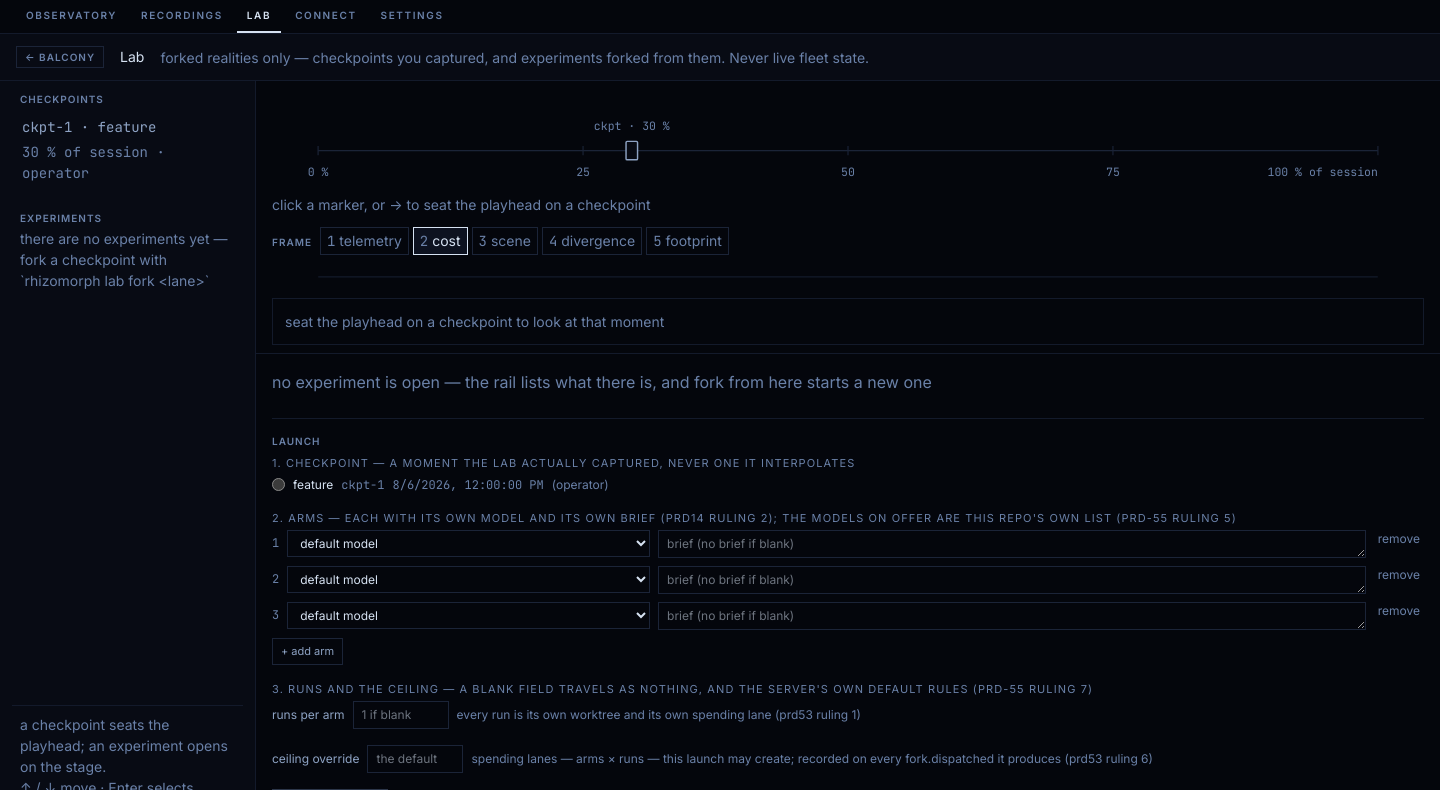
Test: LabPage — the lab re-reads its own record when it has changed it (prd-55 ruling 7) › a newly launched experiment reaches Compare and Metrics without a page reload
The image size is (1440, 790).
Expected: the text with test id "lab-experiments-empty" is shown, [12,228,243,291]
Expected: the text with test id "lab-stage-no-experiment" is shown, [272,372,932,392]
Click the radio button labelled "feature ckpt-1 8/6/2026, 12:00:00 PM (operator)" at coordinates (278, 485), box [272,478,285,491]
(page scrolled)
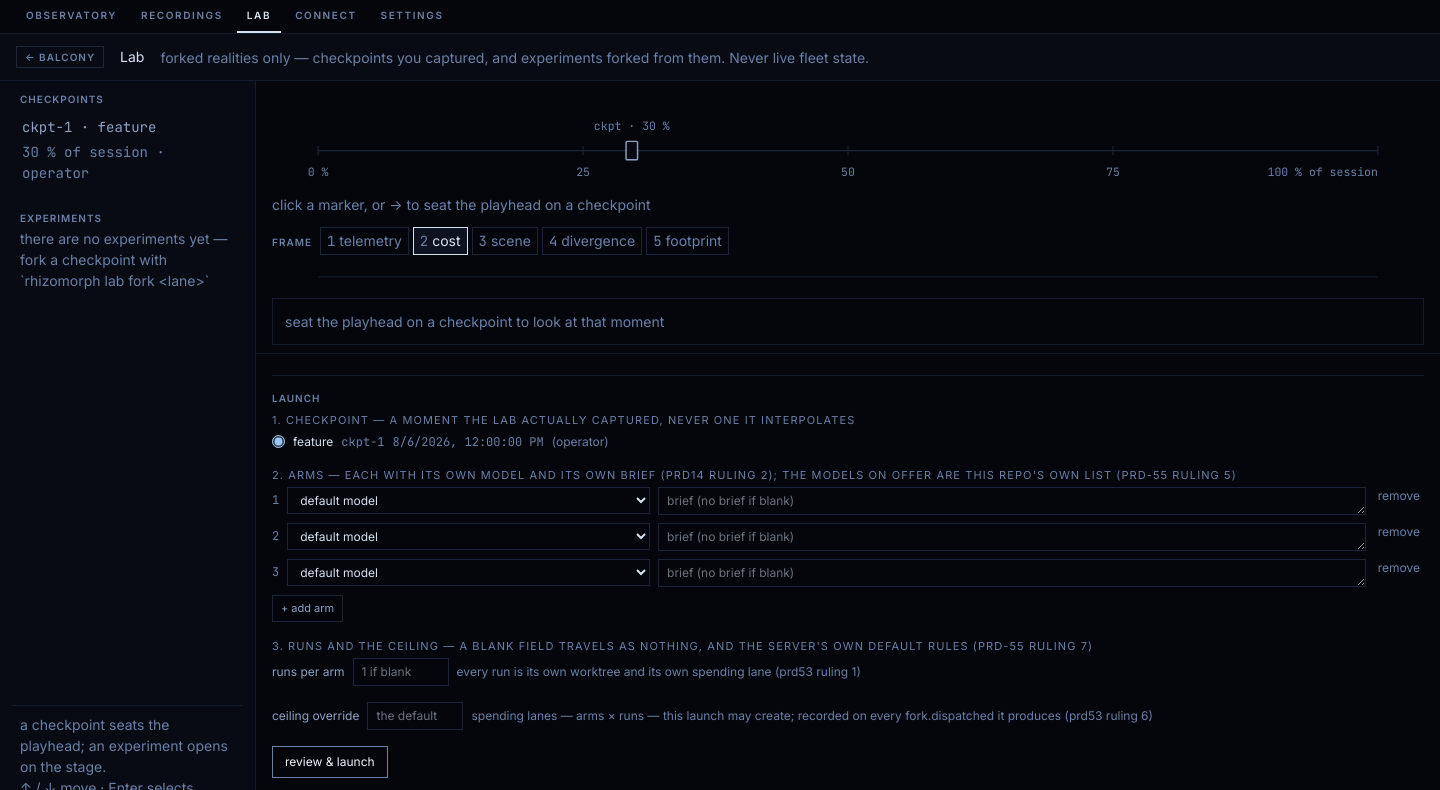
Click the button with test id "launch-review" at coordinates (330, 762), box [272,746,388,778]
(page scrolled)
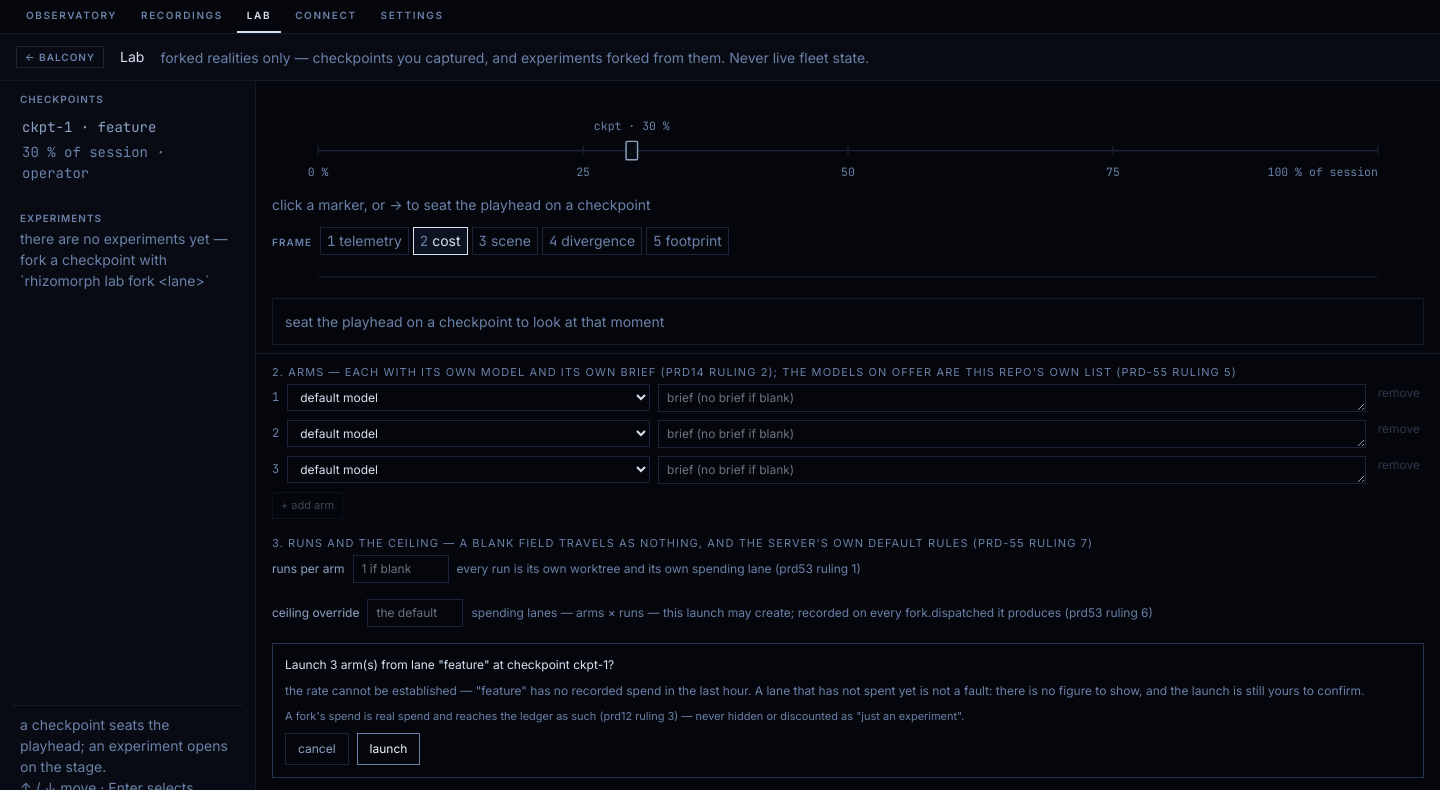
Result: the element with test id "launch-confirm-dialog" is shown at [272,643,1424,778]
Click the button with test id "launch-confirm" at coordinates (388, 749), box [357,733,420,765]
(page scrolled)
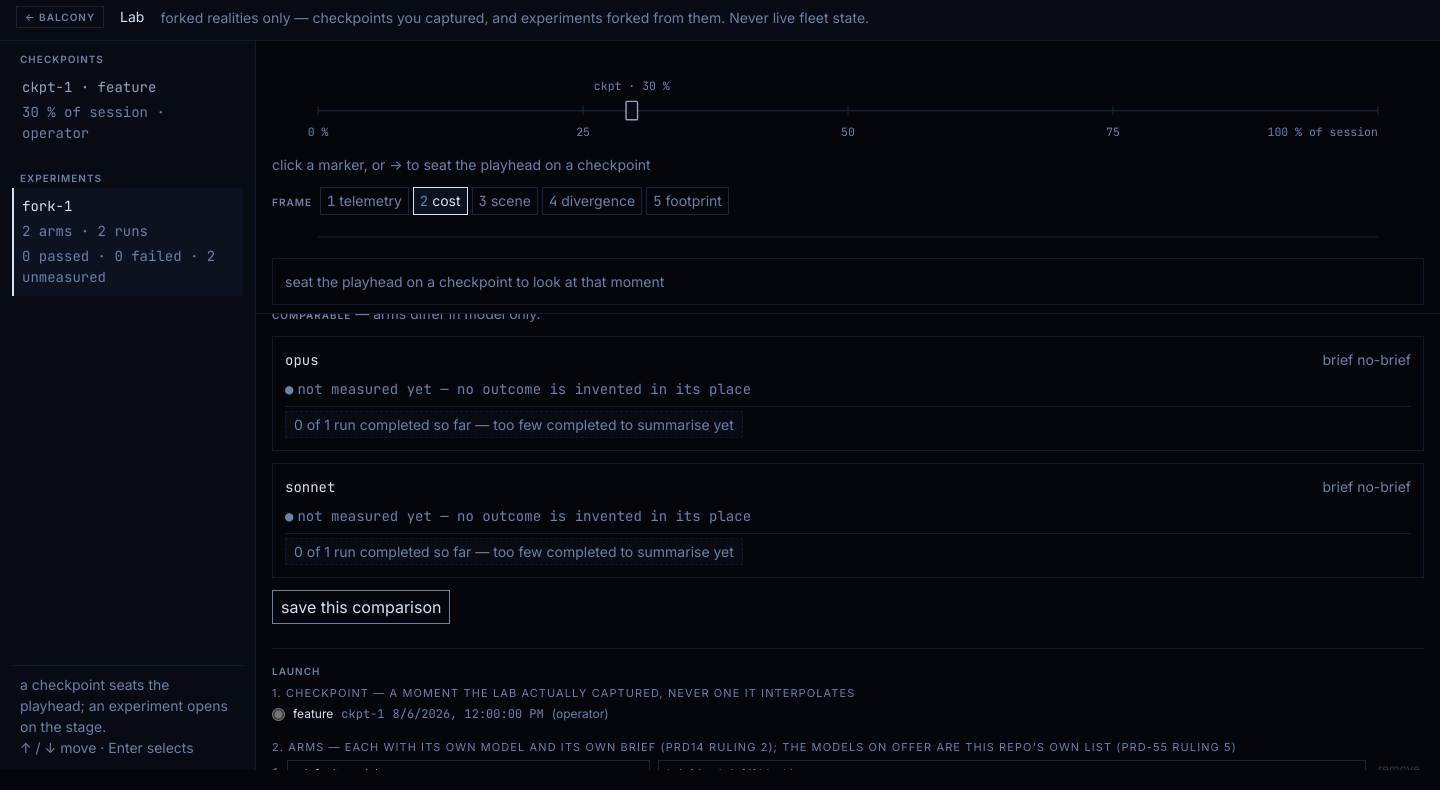
Result: the element with test id "lab-experiment-fork-1" is shown at [272,41,1424,624]
Result: the element with test id "comparison-surface" is shown at [272,232,1424,578]
Result: the text with test id "lab-experiments-empty" is gone
